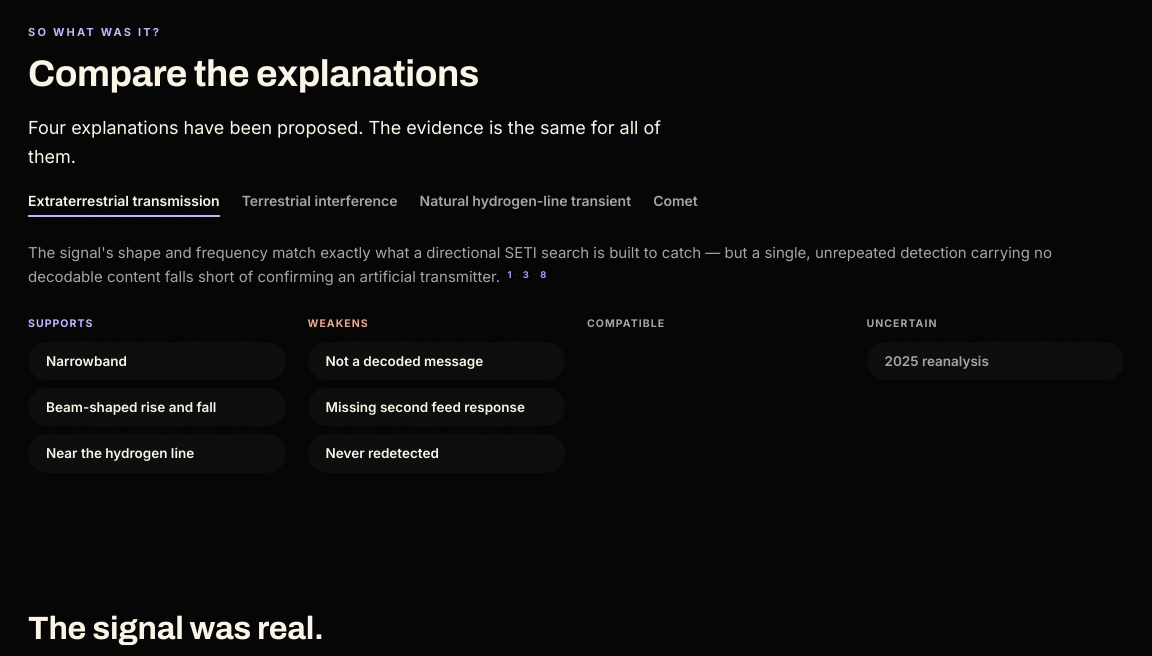
Test case: RabbitHolePage — Wow! Signal evidence experience › selecting an evidence token reveals its statement with a resolving citation
(page scrolled)
Expected: the heading "Compare the explanations" is shown, [28, 54, 479, 94]
Click the button with class "wow-lab-token-btn" showing "Narrowband".
click(157, 361)  # box [28, 342, 286, 380]
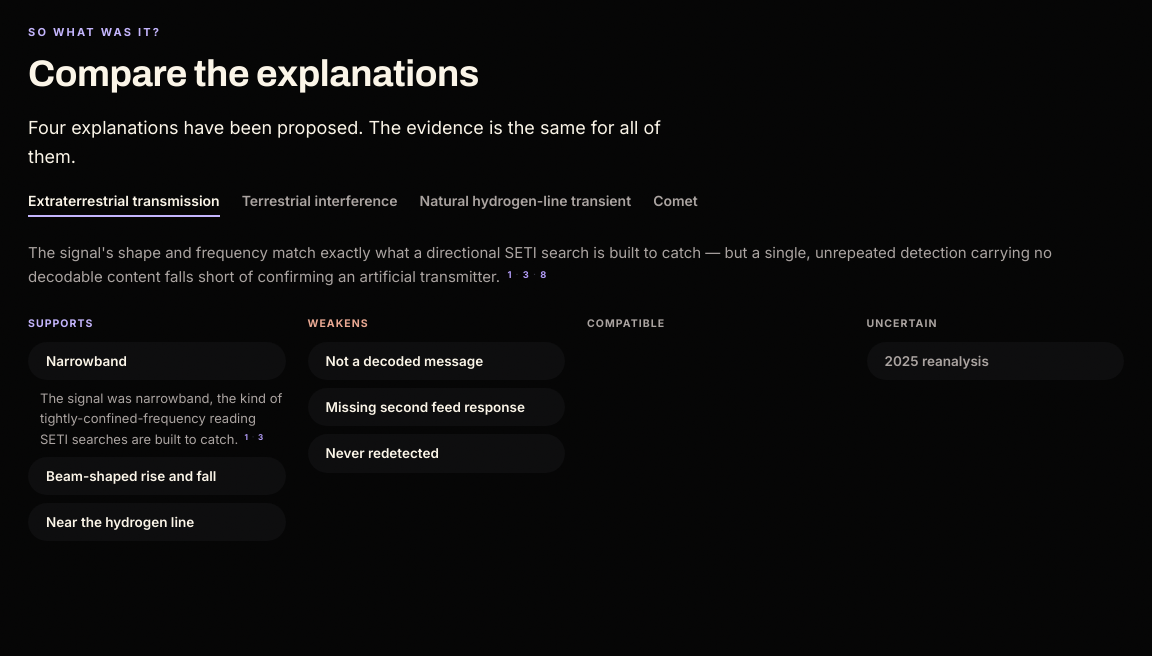
Now the element with class "wow-lab-token-detail" is shown, box [28, 388, 286, 449]
